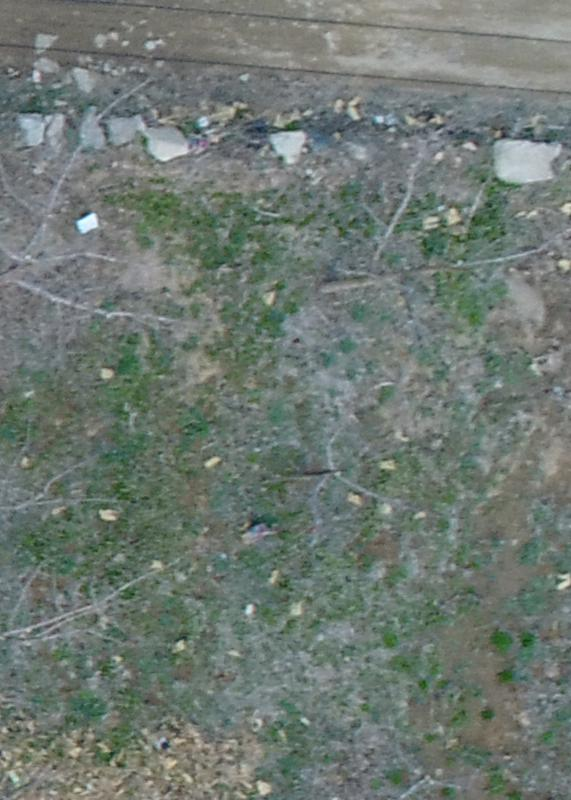apple: (267, 126, 561, 360), (10, 117, 191, 360)
